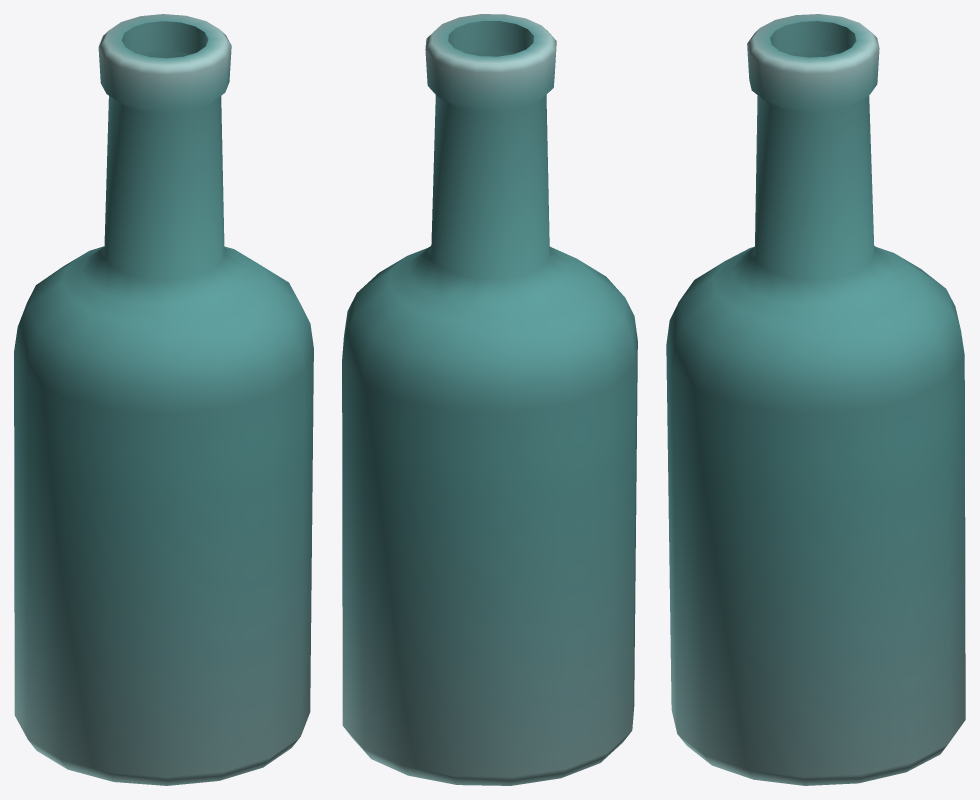
The model's file is PP_Bottle2.fbx.
3 renders of one model, left to right at view 1: azimuth 30°, elevation 25°; view 2: azimuth 150°, elevation 25°; view 3: azimuth 270°, elevation 25°, orthographic.
Parts seen in each view (by area): view 1: bottle_2; view 2: bottle_2; view 3: bottle_2.
Part boxes in pixels (<box>): bottle_2: <box>14,14,313,785</box>; bottle_2: <box>342,14,637,785</box>; bottle_2: <box>666,14,965,785</box>.
Bounding box in the file's own units: 11.72 × 30.16 × 11.75.
